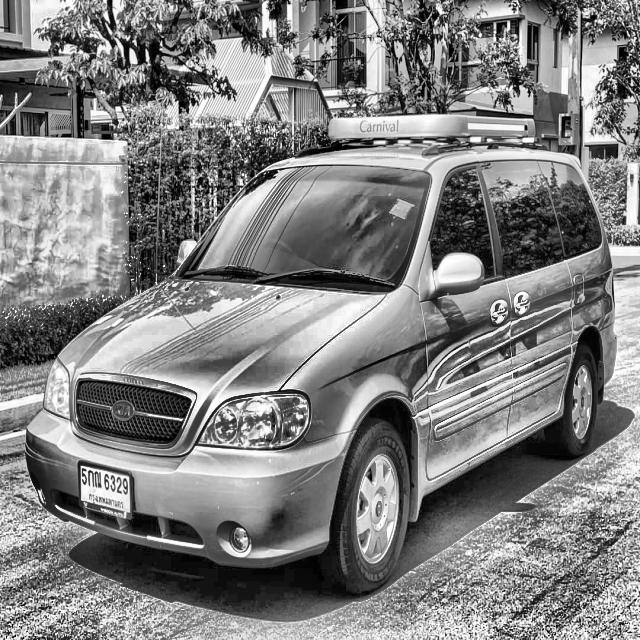license-plate: (72, 458, 142, 536)
